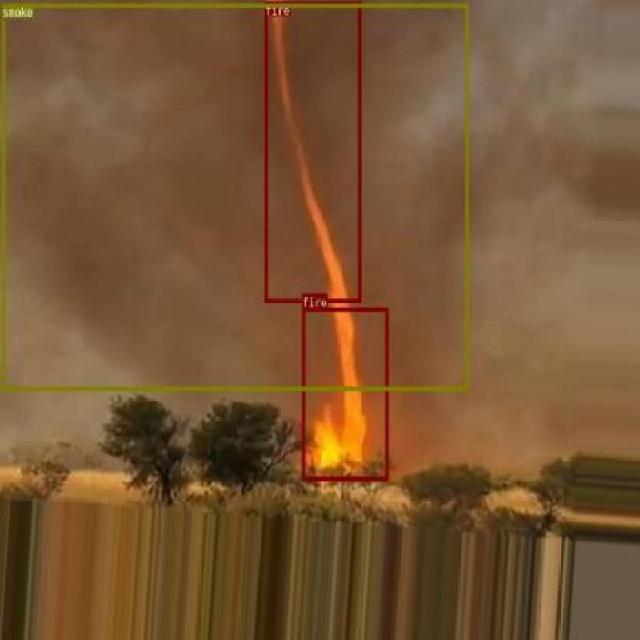Fire: (264, 2, 361, 302), (302, 306, 388, 479)
Smoke: (1, 2, 468, 390)
